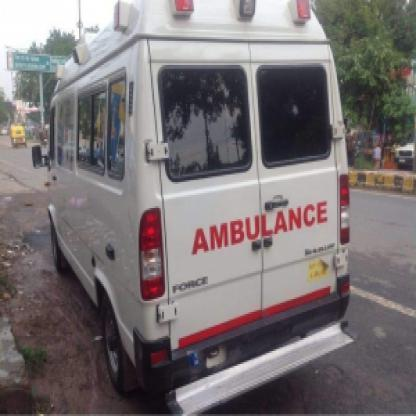Ambulance: (186, 195, 331, 262)
